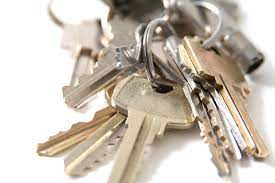key: (28, 23, 271, 180)
